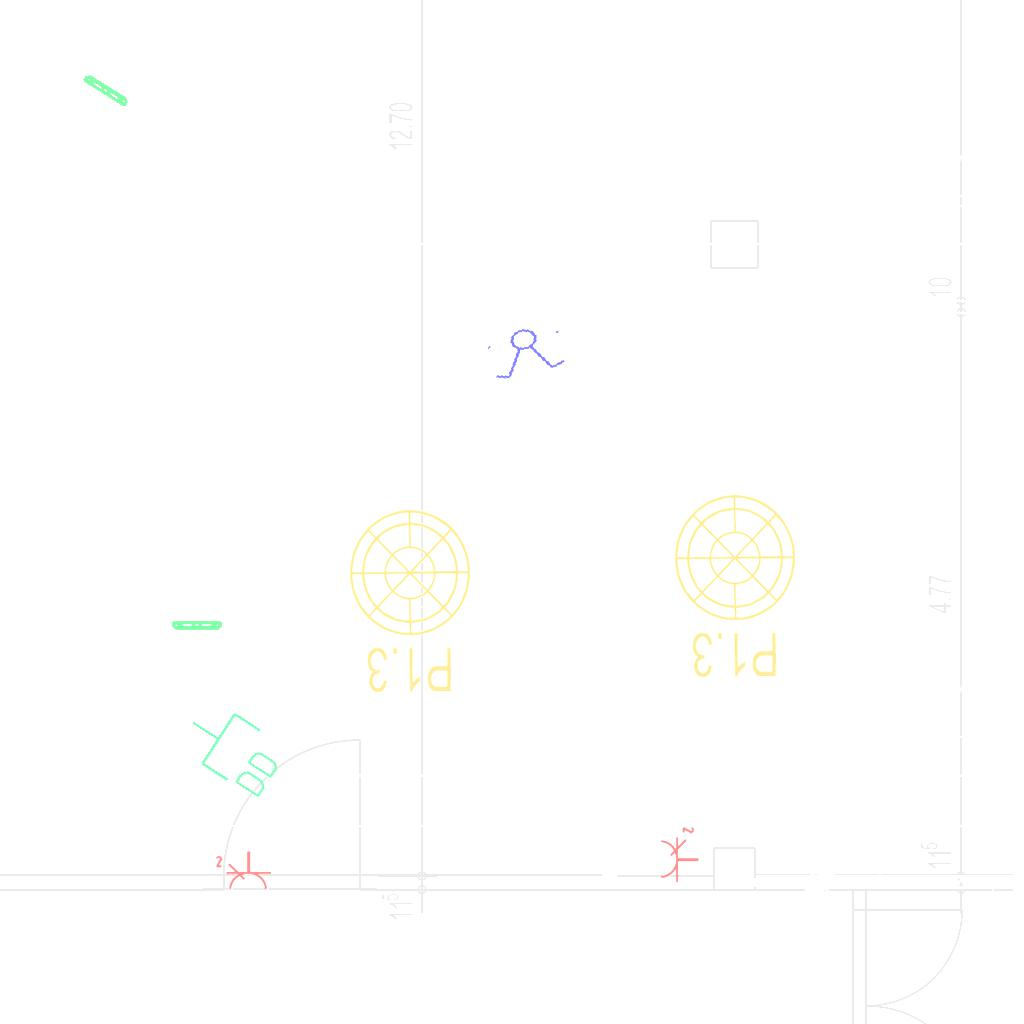Aufbaurundleuchte_LED_Treppenhaus: (660, 491, 799, 696), (335, 506, 474, 711)
Datenanschluss_zweifach: (171, 692, 296, 807)
Schukosteckdose_mehrfach: (214, 848, 274, 892), (658, 825, 702, 885)
Serienschalter: (480, 319, 574, 385)
Sicherheitsleuchte_Wandeinbau: (80, 70, 154, 123), (145, 620, 224, 632)
